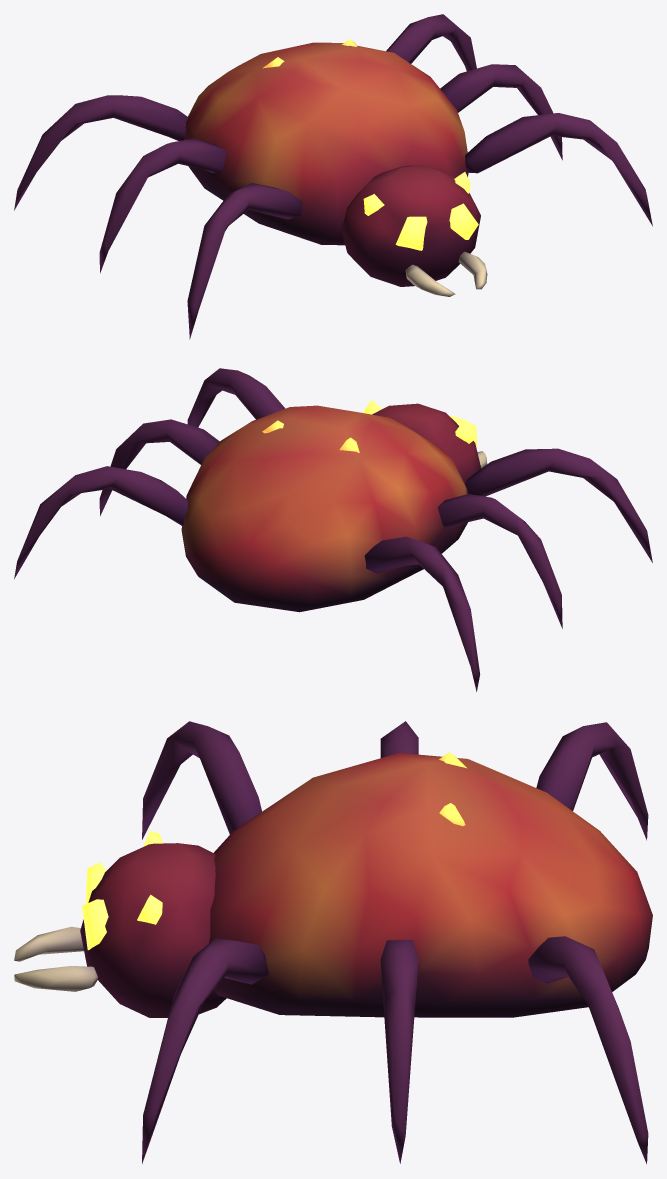
The model's file is crawler_lo.glb.
3 renders of one model, top to bottom at view 1: azimuth 30°, elevation 25°; view 2: azimuth 150°, elevation 25°; view 3: azimuth 270°, elevation 25°, orthographic. The views are drawn at different scales.
Parts seen in each view (by area): view 1: crawler_cara, crawler_head, crawler_leg, crawler_leg.002_R, crawler_leg_R, crawler_leg.001_R, crawler_leg.001, crawler_leg.002, eyeR, crawler_mand_R, eyeL, crawler_mand; view 2: crawler_cara, crawler_leg_R, crawler_leg.002, crawler_leg.002_R, crawler_leg.001_R, crawler_head, crawler_leg.001, crawler_leg; view 3: crawler_cara, crawler_head, crawler_leg.002, crawler_leg, crawler_leg_R, crawler_leg.001, crawler_leg.002_R, crawler_mand, crawler_mand_R, crawler_leg.001_R, eyeL.
Boxes of the visible parts, x1=… form: crawler_cara: x1=184, y1=42, x2=468, y2=245; crawler_head: x1=341, y1=165, x2=480, y2=286; crawler_leg: x1=465, y1=113, x2=652, y2=226; crawler_leg.002_R: x1=14, y1=95, x2=188, y2=210; crawler_leg_R: x1=187, y1=183, x2=302, y2=339; crawler_leg.001_R: x1=99, y1=138, x2=226, y2=273; crawler_leg.001: x1=440, y1=64, x2=562, y2=160; crawler_leg.002: x1=386, y1=14, x2=476, y2=71; eyeR: x1=395, y1=216, x2=427, y2=250; crawler_mand_R: x1=405, y1=264, x2=455, y2=296; eyeL: x1=449, y1=203, x2=478, y2=239; crawler_mand: x1=458, y1=251, x2=487, y2=289; crawler_cara: x1=181, y1=405, x2=467, y2=612; crawler_leg_R: x1=465, y1=448, x2=652, y2=562; crawler_leg.002: x1=14, y1=466, x2=188, y2=579; crawler_leg.002_R: x1=364, y1=536, x2=480, y2=691; crawler_leg.001_R: x1=437, y1=494, x2=562, y2=628; crawler_head: x1=372, y1=403, x2=481, y2=483; crawler_leg.001: x1=99, y1=419, x2=219, y2=516; crawler_leg: x1=187, y1=368, x2=285, y2=427; crawler_cara: x1=208, y1=753, x2=652, y2=1017; crawler_head: x1=80, y1=843, x2=226, y2=1017; crawler_leg.002: x1=528, y1=936, x2=648, y2=1164; crawler_leg: x1=142, y1=938, x2=268, y2=1163; crawler_leg_R: x1=142, y1=721, x2=261, y2=839; crawler_leg.001: x1=380, y1=940, x2=418, y2=1163; crawler_leg.002_R: x1=536, y1=722, x2=648, y2=840; crawler_mand: x1=14, y1=966, x2=97, y2=991; crawler_mand_R: x1=14, y1=926, x2=83, y2=961; crawler_leg.001_R: x1=380, y1=721, x2=418, y2=757; eyeL: x1=82, y1=899, x2=108, y2=950.
Bounding box in the file's own units: 1.81 × 0.5995 × 1.51.
